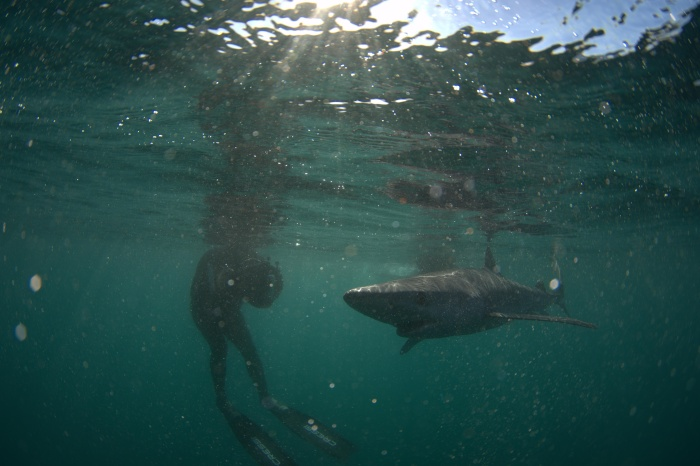Azul: (331, 230, 587, 356)
